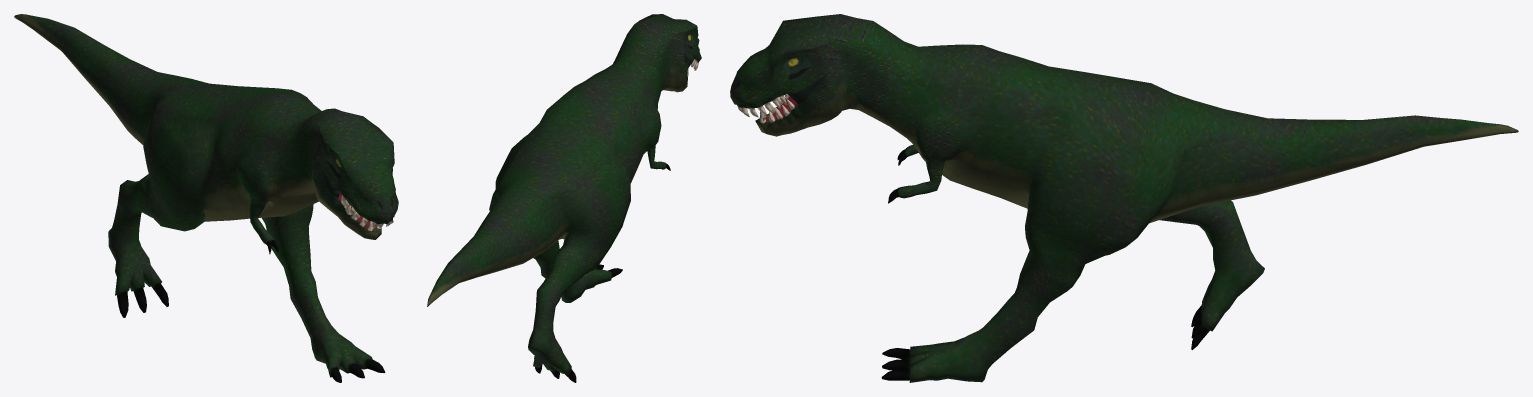
File: kaonov_entity.obj
3 renders of one model, left to right at view 1: azimuth 30°, elevation 25°; view 2: azimuth 150°, elevation 25°; view 3: azimuth 270°, elevation 25°, orthographic. The views are drawn at different scales.
Parts seen in each view (by area): view 1: kaonov_entity; view 2: kaonov_entity; view 3: kaonov_entity.
Part boxes in pixels (x1=…): kaonov_entity: x1=14, y1=14, x2=398, y2=382; kaonov_entity: x1=427, y1=14, x2=701, y2=382; kaonov_entity: x1=730, y1=14, x2=1518, y2=382.
Size of the model in its own units: 52.54 by 109 by 228.
Materials: 1 (1 with a texture image).
